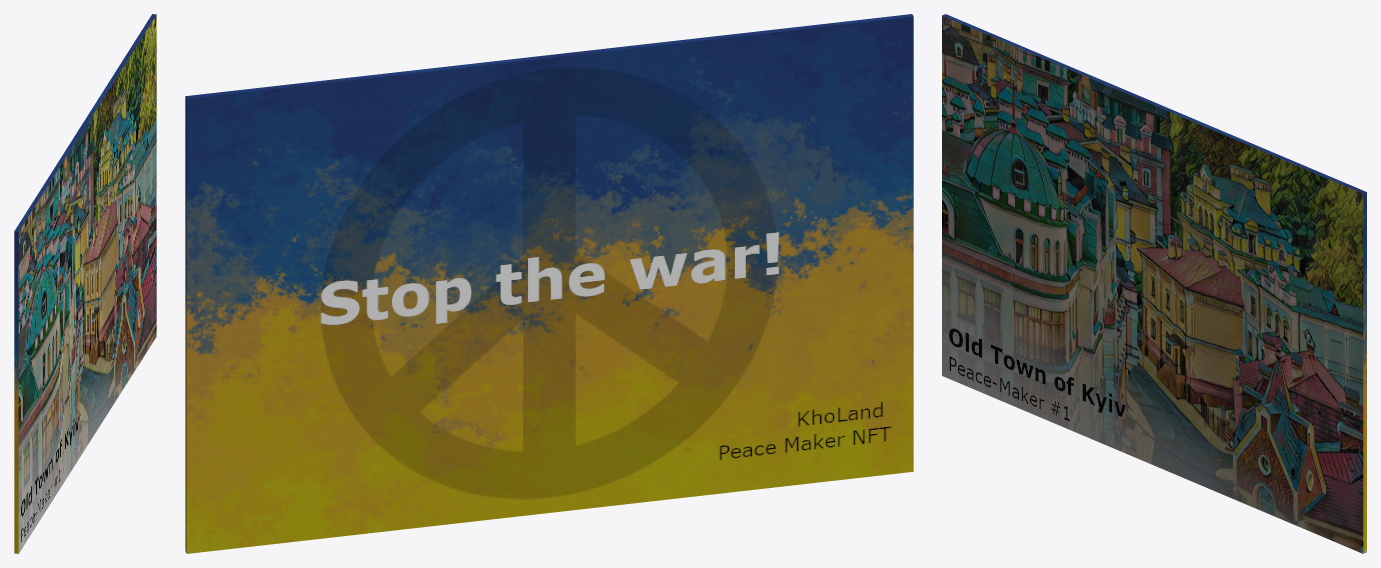
The model's file is peace_maker_1.glb.
3 views of the same model, side by side, from view 1: azimuth 30°, elevation 25°; view 2: azimuth 150°, elevation 25°; view 3: azimuth 270°, elevation 25° (orthographic). The views are drawn at different scales.
Visible parts, largest first — view 1: Cube; view 2: Cube; view 3: Cube.
Boxes of the visible parts, x1,y1,x2,y2 form: Cube: (14, 14, 156, 553); Cube: (185, 14, 913, 553); Cube: (942, 14, 1366, 553).
Size of the model in its own units: 8.55 by 8 by 8.55.
Materials: 2 (2 with a texture image).
